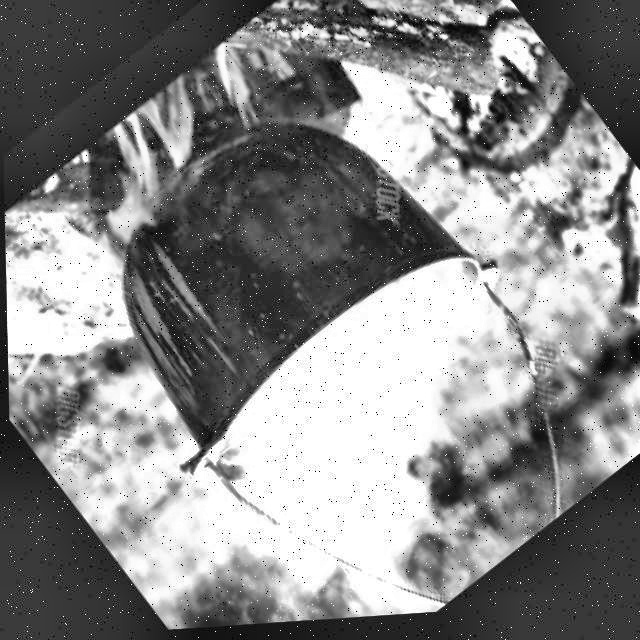Fire: (33, 10, 294, 258)
Smoke: (113, 336, 551, 634)
